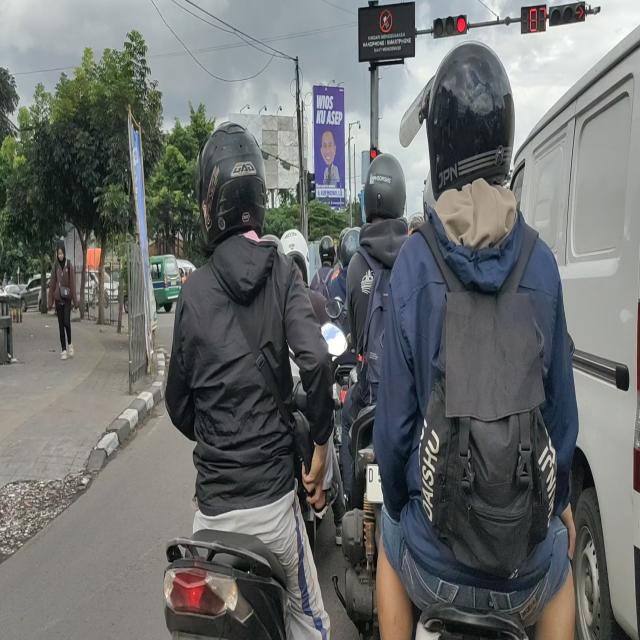helmet: (427, 39, 512, 192), (200, 122, 264, 246), (364, 155, 406, 225), (280, 228, 314, 295), (340, 224, 360, 262), (322, 238, 336, 263)
